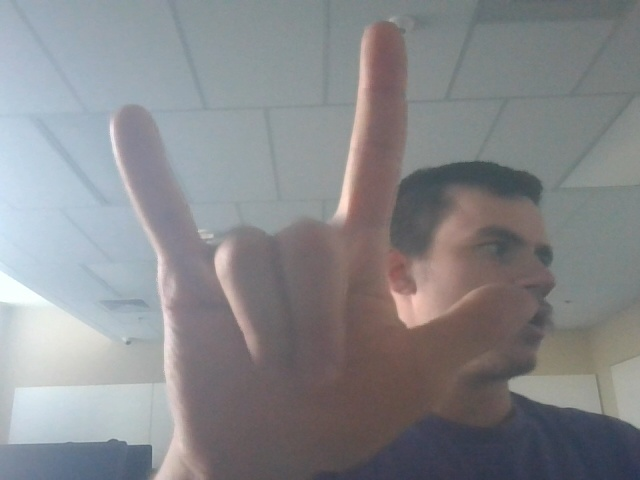iloveyou: (93, 8, 528, 480)
